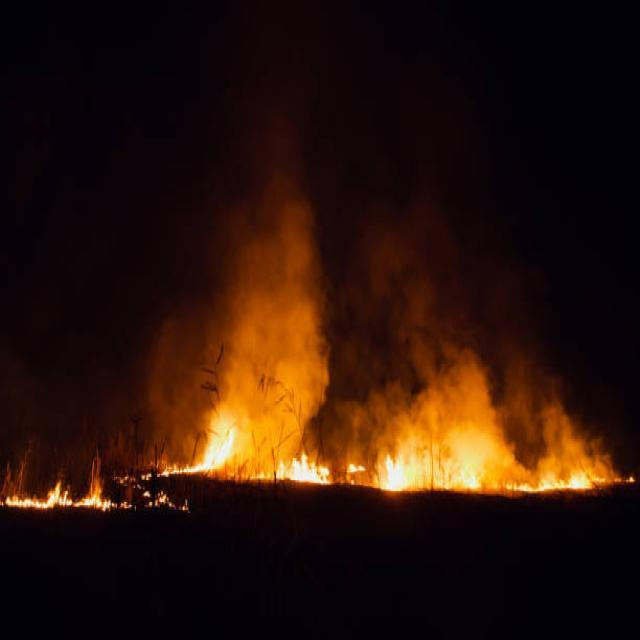Fire: (352, 439, 606, 492), (170, 410, 354, 480), (6, 456, 128, 508)
Smoke: (173, 120, 610, 470)
